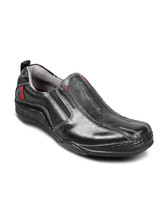shoes: (14, 53, 157, 161)
